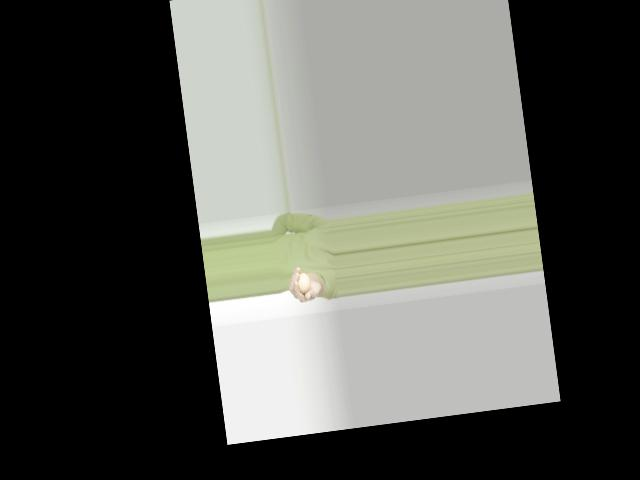egg: (296, 271, 311, 293)
